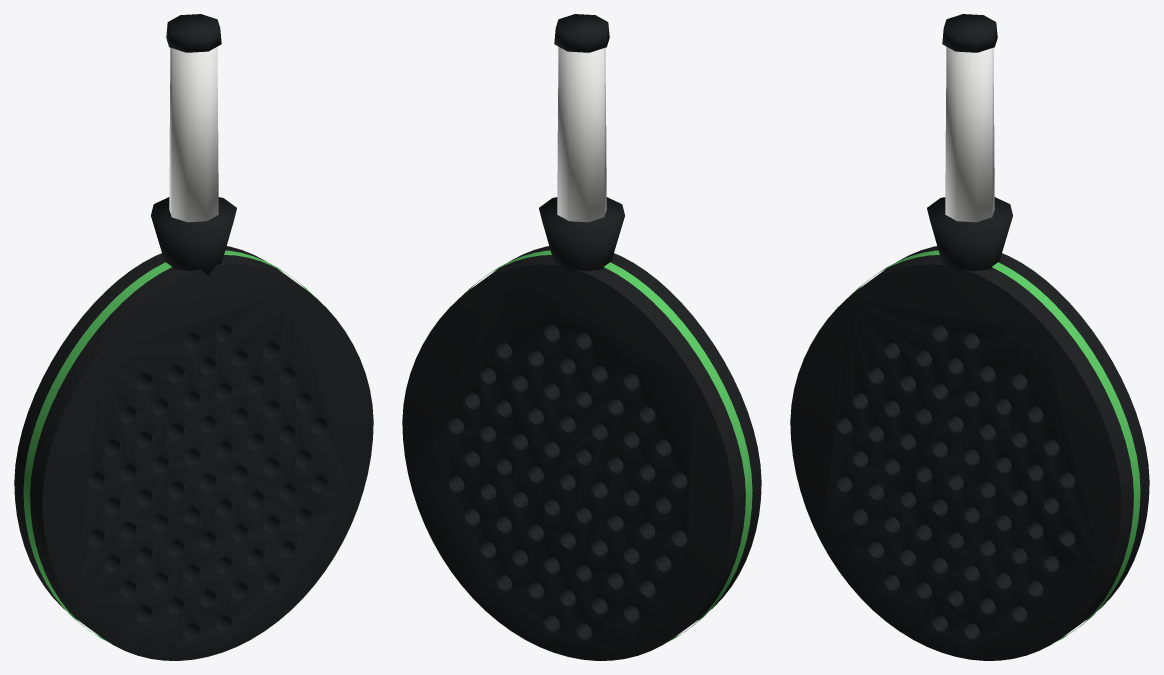
The model's file is racket_padel.glb.
3 views of the same model, side by side, from view 1: azimuth 30°, elevation 25°; view 2: azimuth 150°, elevation 25°; view 3: azimuth 330°, elevation 25° (orthographic).
Parts seen in each view (by area): view 1: racket_padel; view 2: racket_padel; view 3: racket_padel.
Boxes of the visible parts, bbox=[...] form: racket_padel: bbox=[14, 14, 373, 660]; racket_padel: bbox=[402, 14, 761, 660]; racket_padel: bbox=[790, 14, 1149, 660].
Size of the model in its own units: 0.2624 by 0.4672 by 0.06.
